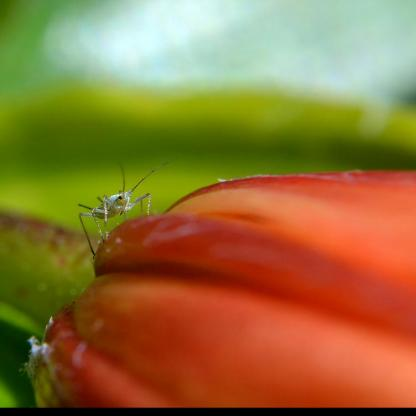aphid: (57, 164, 176, 242)
